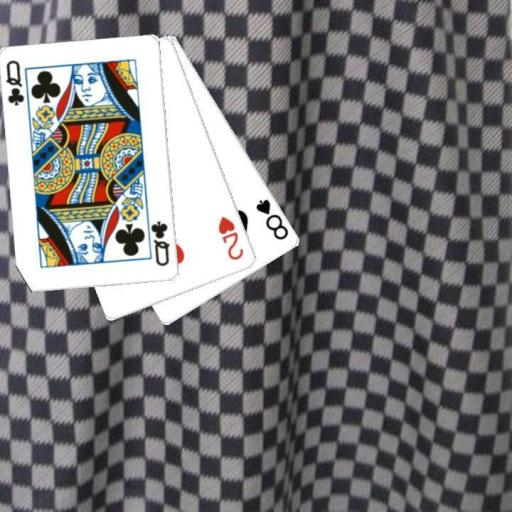card-corner: (253, 196, 291, 242), (216, 213, 246, 262), (148, 218, 171, 268), (4, 58, 26, 108)
